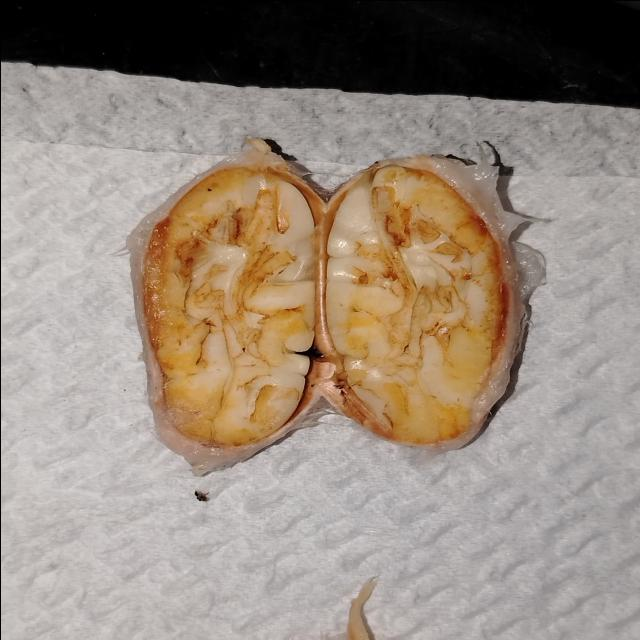Criollo: (321, 162, 505, 448), (148, 161, 314, 445)
